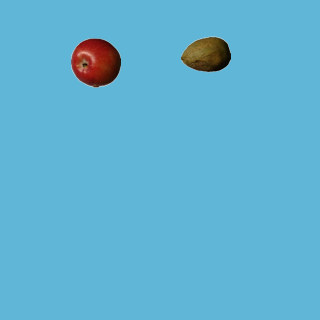Apple Braeburn: (70, 37, 120, 87)
Papaya: (180, 29, 230, 79)
